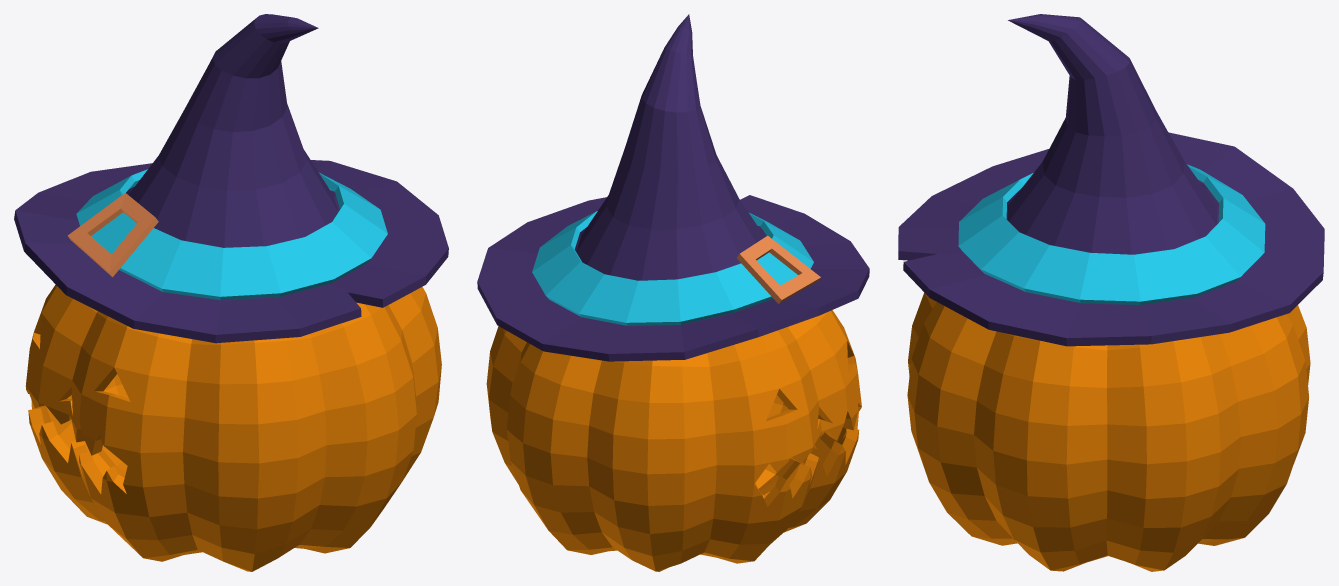
Rendered from jackolanternHatted.glb.
3 renders of one model, left to right at view 1: azimuth 30°, elevation 25°; view 2: azimuth 150°, elevation 25°; view 3: azimuth 270°, elevation 25°, orthographic. The views are drawn at different scales.
Visible parts, largest first — view 1: jackolantern, witch hat, witch hat.002; view 2: jackolantern, witch hat, witch hat.002; view 3: jackolantern, witch hat, witch hat.002.
Boxes of the visible parts, box(x1,y1,x2,y2) form: jackolantern: box(25, 284, 441, 571); witch hat: box(14, 14, 448, 343); witch hat.002: box(67, 169, 387, 300); jackolantern: box(486, 310, 861, 571); witch hat: box(477, 14, 869, 361); witch hat.002: box(532, 211, 820, 325); jackolantern: box(907, 292, 1310, 571); witch hat: box(898, 14, 1324, 346); witch hat.002: box(958, 164, 1265, 304).
Size of the model in its own units: 2.04 by 2.76 by 2.04.
